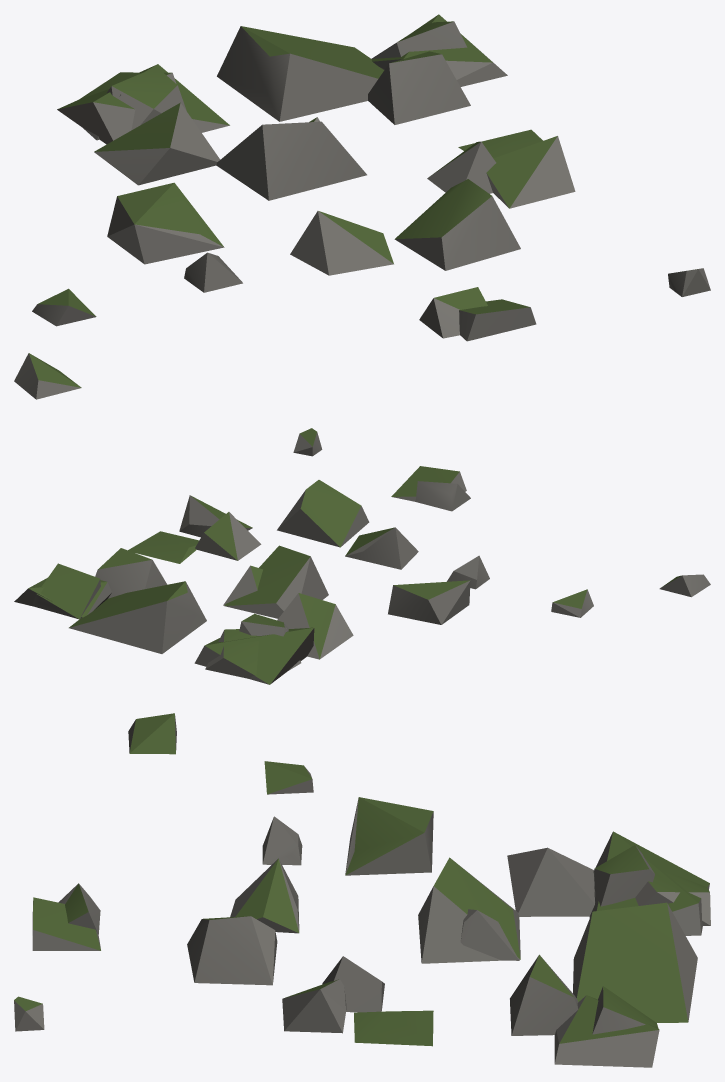
File: RockScree.fbx
The picture shows the model from 3 angles, top to bottom: view 1: azimuth 30°, elevation 25°; view 2: azimuth 150°, elevation 25°; view 3: azimuth 270°, elevation 25°; orthographic projection. The views are drawn at different scales.
Visible parts, largest first — view 1: RockScree; view 2: RockScree; view 3: RockScree.
Boxes of the visible parts, <box> form: RockScree: <box>14,14,710,399</box>; RockScree: <box>14,428,710,684</box>; RockScree: <box>14,713,710,1067</box>.
Bounding box in the file's own units: 1.66 × 0.1434 × 1.46.
